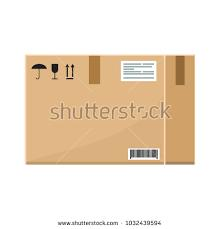Cardboard: (14, 46, 204, 174)
